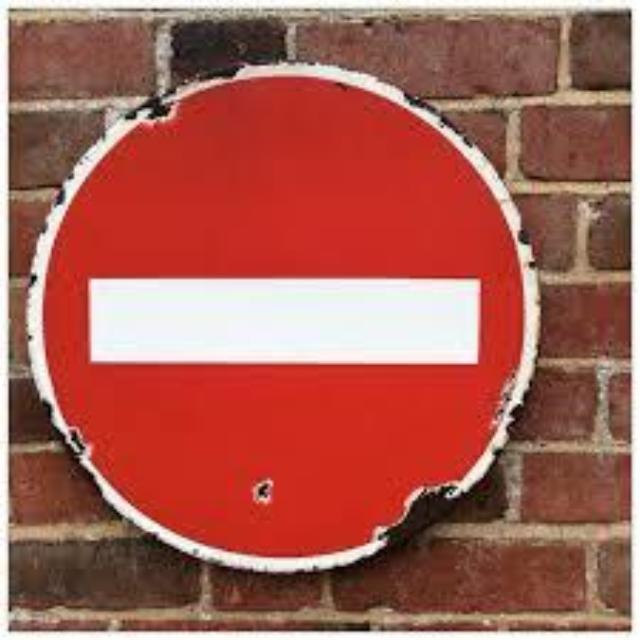B2: (23, 57, 543, 571)
